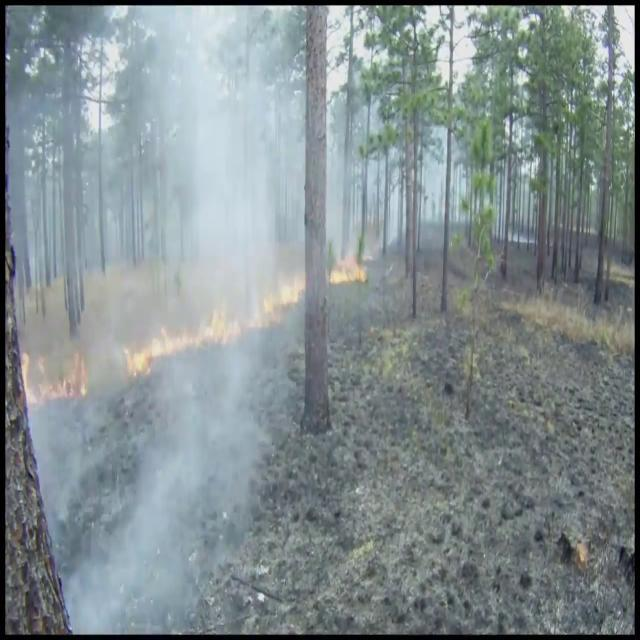Fire: (122, 304, 218, 386), (329, 254, 367, 288)
Smoke: (13, 8, 324, 630)
